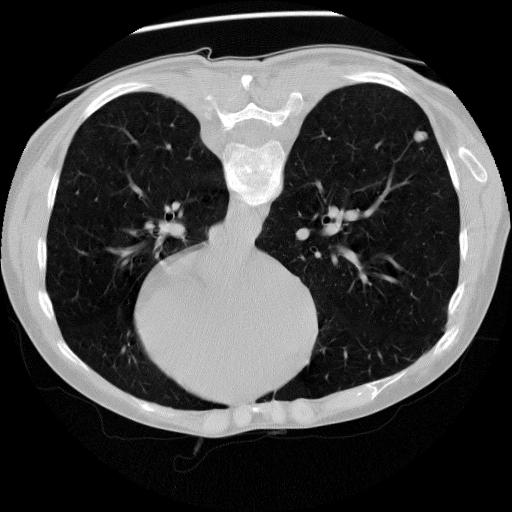nodule: (413, 128, 432, 147)
